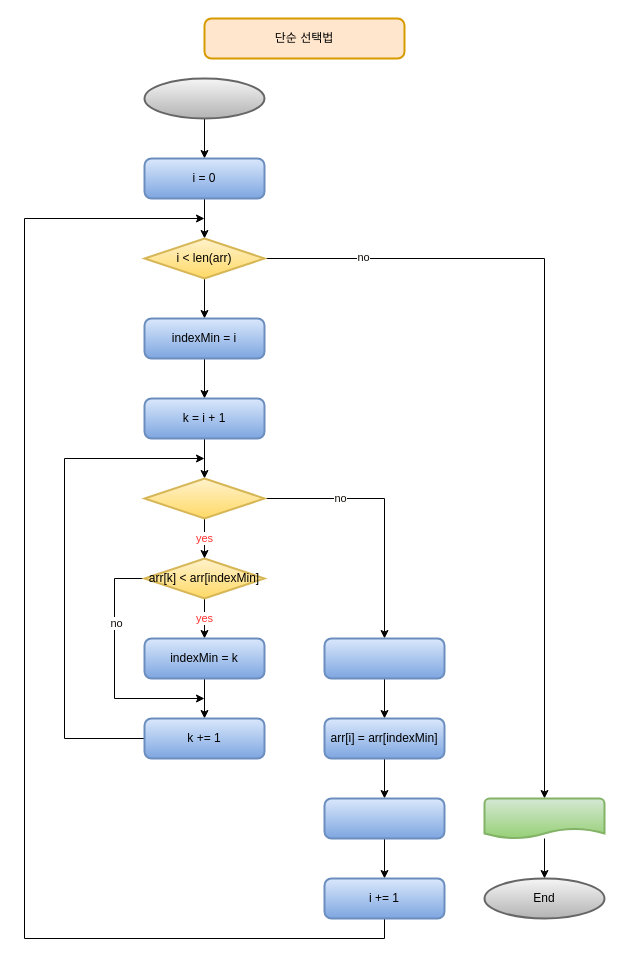
This 623x964 diagram has some shape labels left out. The box of each missing label's shape, as (x1, y1, x2, y2) in pixels:
arr: (483, 797, 605, 839)
arr[indexMin] = w: (323, 797, 445, 839)
k < len(arr): (143, 477, 265, 519)
Start: (143, 77, 265, 119)
w = arr[i]: (323, 637, 445, 679)
